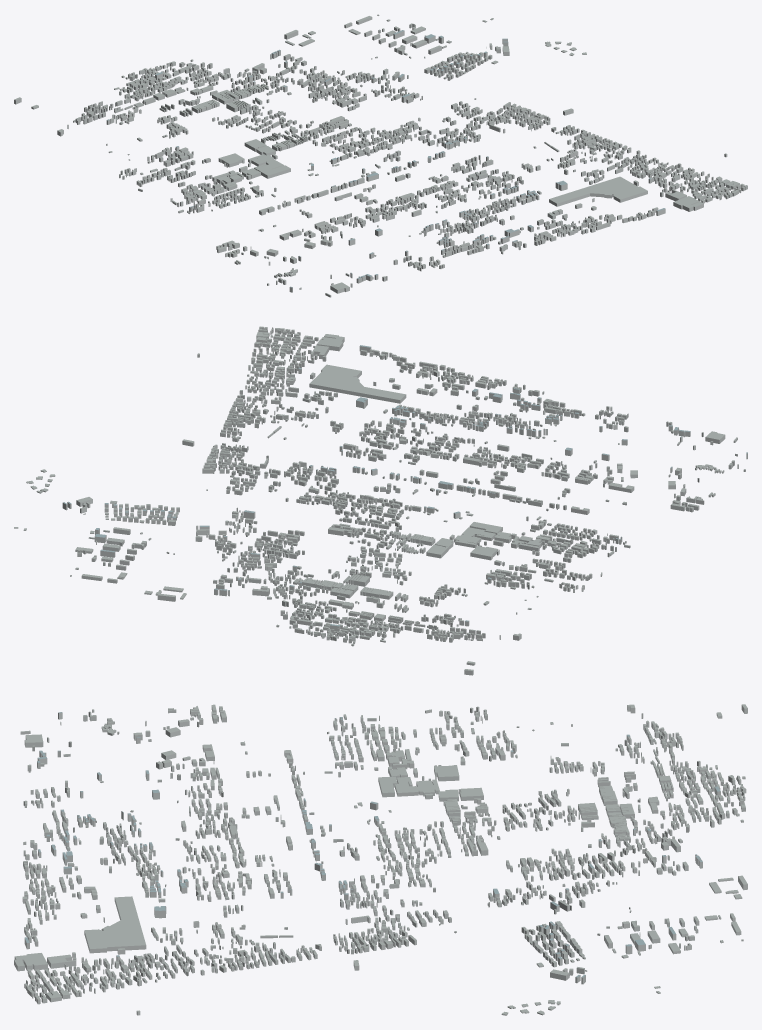
File: far.glb
3 views of the same model, one above another, from view 1: azimuth 30°, elevation 25°; view 2: azimuth 150°, elevation 25°; view 3: azimuth 270°, elevation 25° (orthographic). The views are drawn at different scales.
Bounding box in the file's own units: 2104 × 25.61 × 2130.
